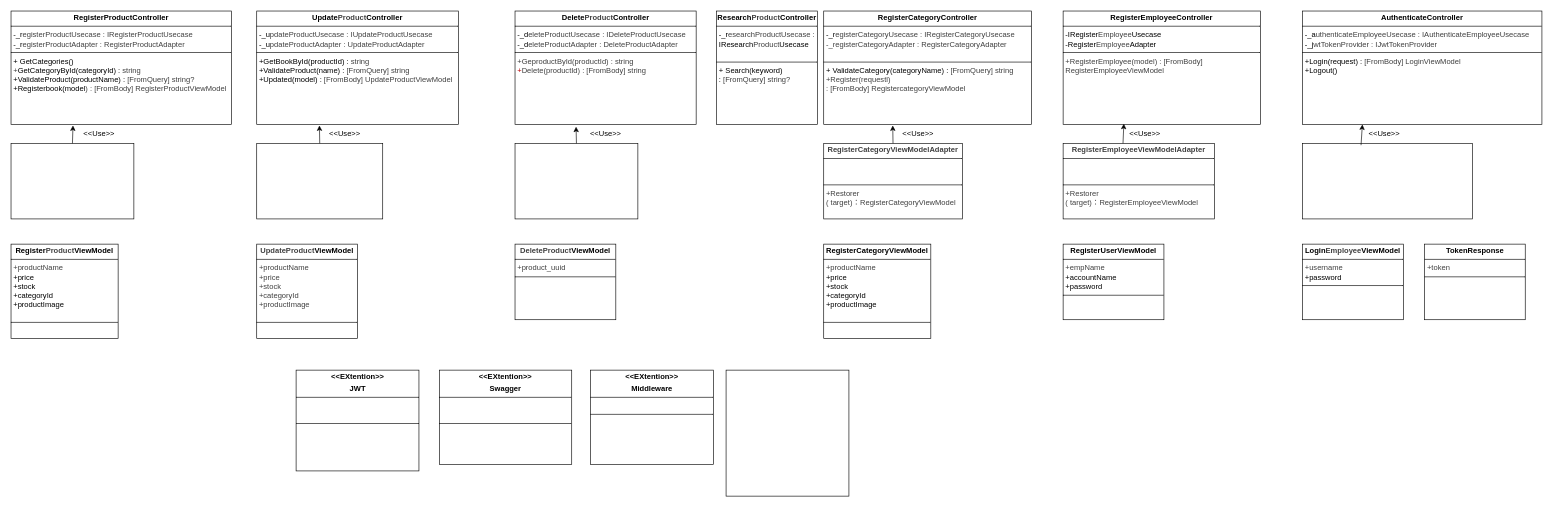
The diagram is 1553 pixels wide and 507 high, and some of its shapes have lost their labels. The centre of each missing label's shape, as x and y in pixels:
"<<EXtention>> Dipendency" goes at point 787,432.
"Delete Product ViewModelAdapter + Restorer ( target ) ： DeleteProduct ViewModel" goes at point 576,181.
"Login Employee ViewModelAdapter + Restorer ( t arget ) ：Login UserViewModel" goes at point 1387,181.
"Register Product ViewModelAdapter +Restorer ( target )： RegisterProViewModel" goes at point 72,181.
"Update Product ViewModelAdapter +Restorer ( target ) ： UpdateProduct ViewModel" goes at point 319,181.
